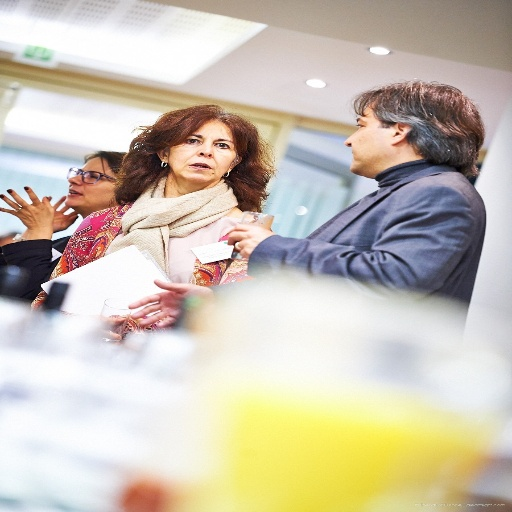hand: (125, 276, 209, 329), (7, 188, 57, 239), (66, 312, 128, 343), (225, 223, 275, 259), (50, 195, 79, 234)
